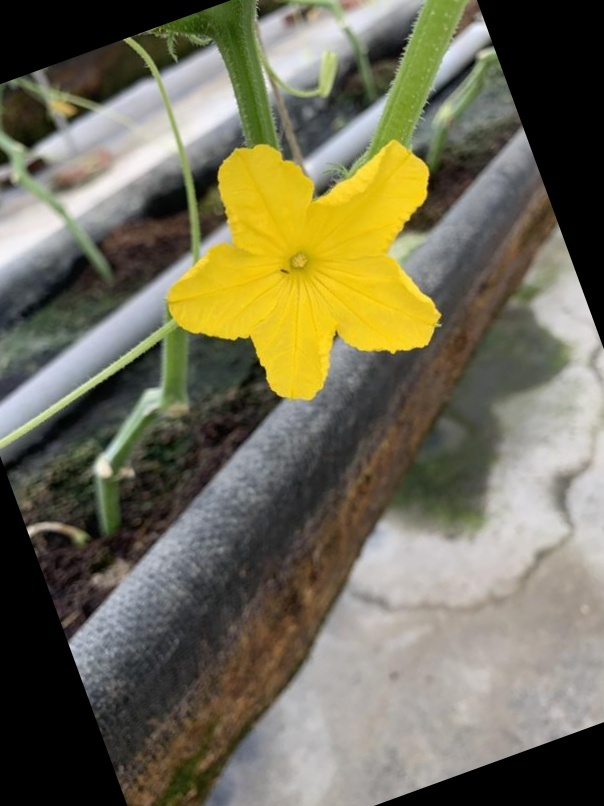flowering: (153, 132, 444, 408)
mature: (156, 133, 444, 408)
